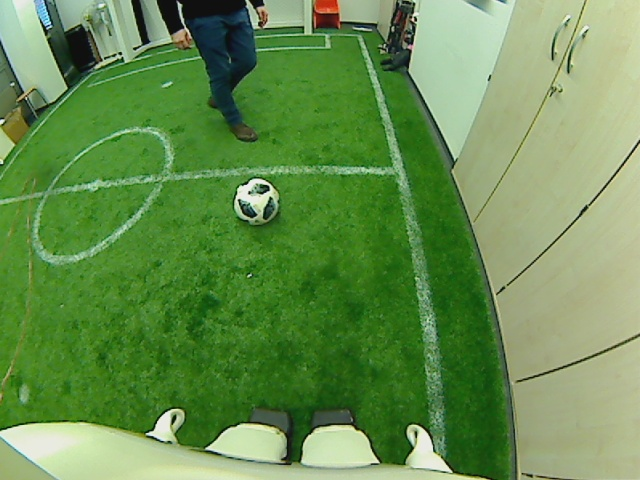ball: (233, 177, 281, 226)
